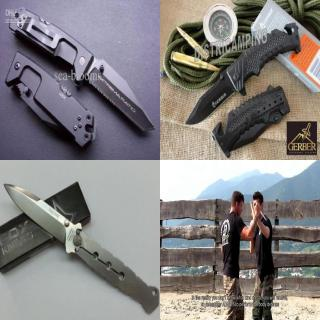knife: (85, 53, 156, 137), (1, 179, 72, 245), (182, 70, 236, 128), (253, 201, 267, 221)
